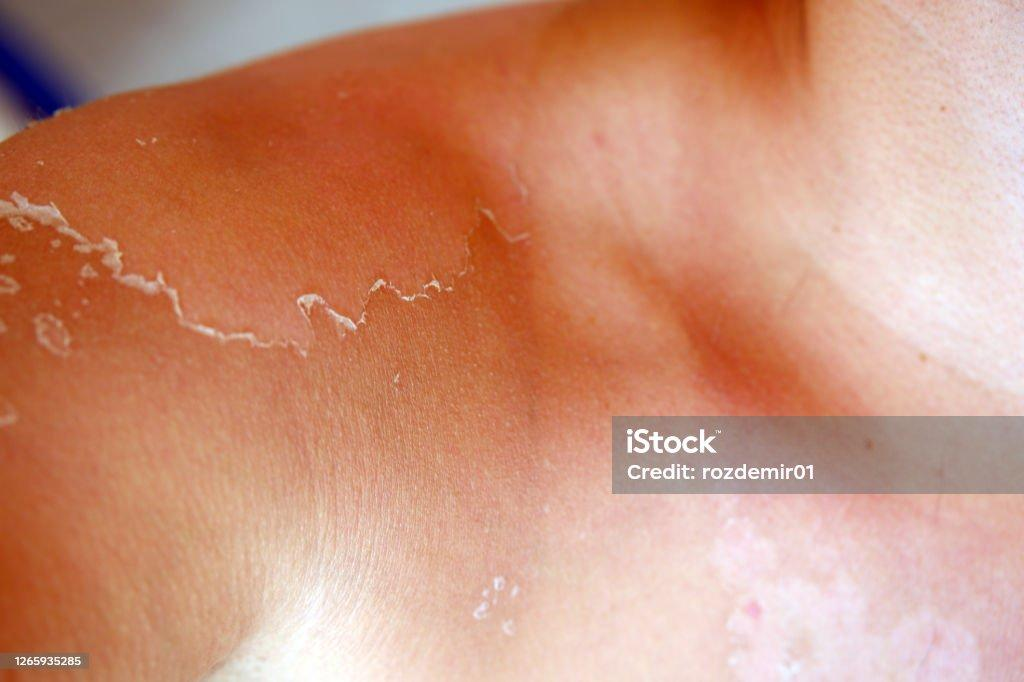Dry-Skin: (297, 478, 587, 682), (293, 173, 480, 420), (0, 152, 197, 367), (683, 75, 850, 310), (658, 562, 955, 648)
